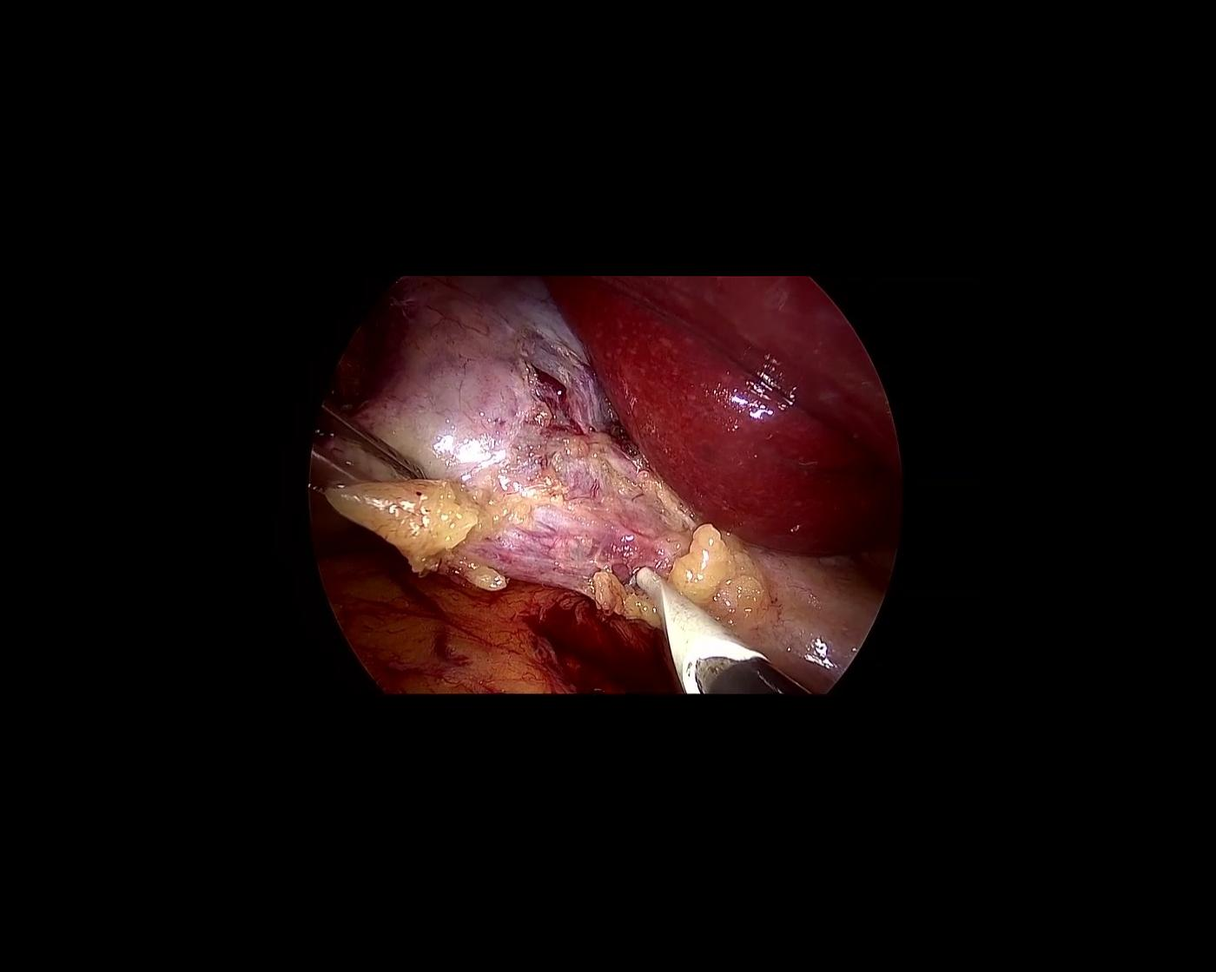Cautery: (588, 556, 818, 758)
Forceps: (276, 396, 429, 542)
Gallbladder: (306, 236, 743, 637)
Liver: (531, 159, 959, 636)
